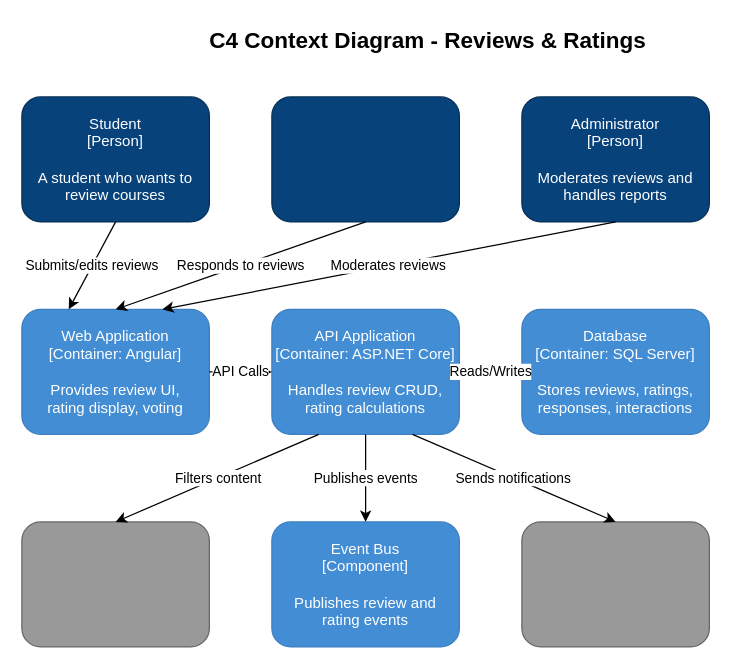
The diagram is 731 pixels wide and 669 high, and some of its shapes have lost their labels. The centre of each missing label's shape, as x and y in pixels:
Content Moderation [External System] Filters profanity and inappropriate content: point 115,584
Email Service [External System] Sends notifications for instructor responses: point 615,584
Instructor [Person] A course instructor who responds to reviews: point 365,159
